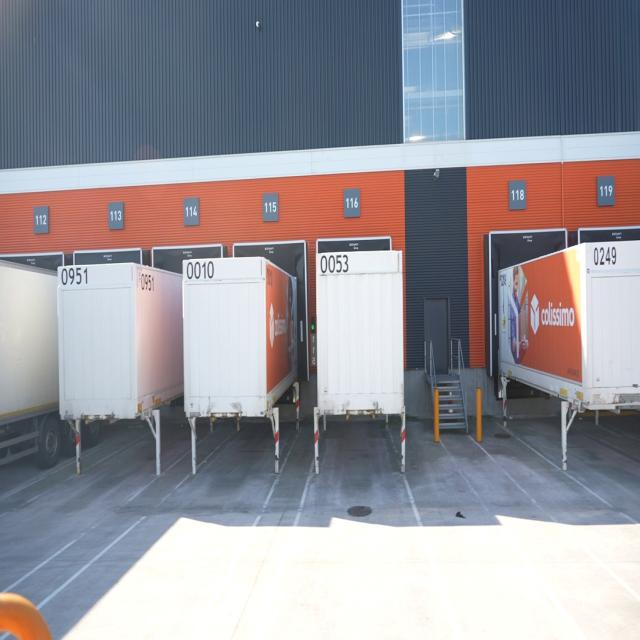Code: (319, 250, 356, 280), (181, 256, 216, 284), (60, 265, 91, 290), (136, 268, 156, 292)
